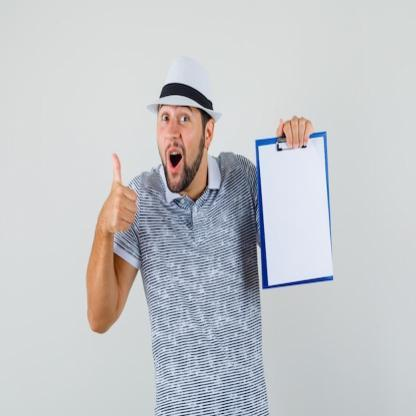thumb_up: (98, 151, 138, 235)
